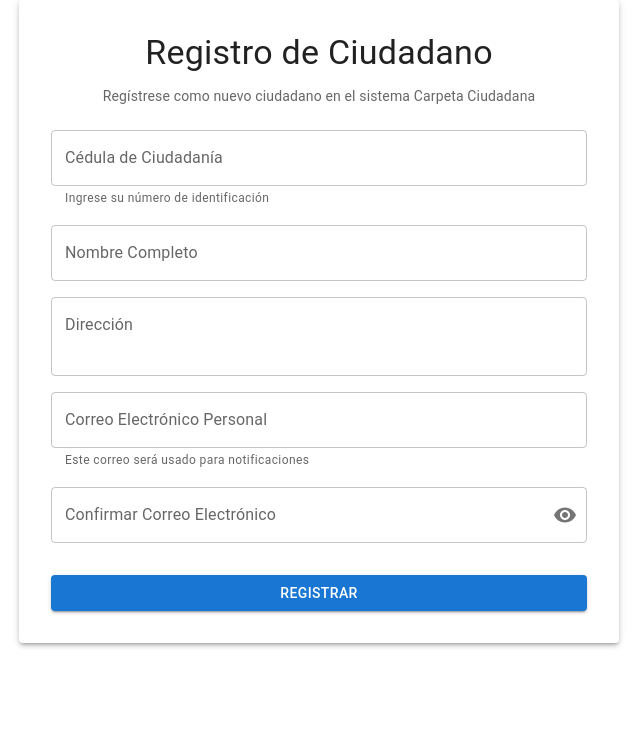
Test: RegisterCitizenForm › validates email confirmation and shows mismatch error in Spanish
Step 1. Type "test@ejemplo.com" into the field labelled "Correo Electrónico Personal" → (319, 420), box [51,392,587,448]
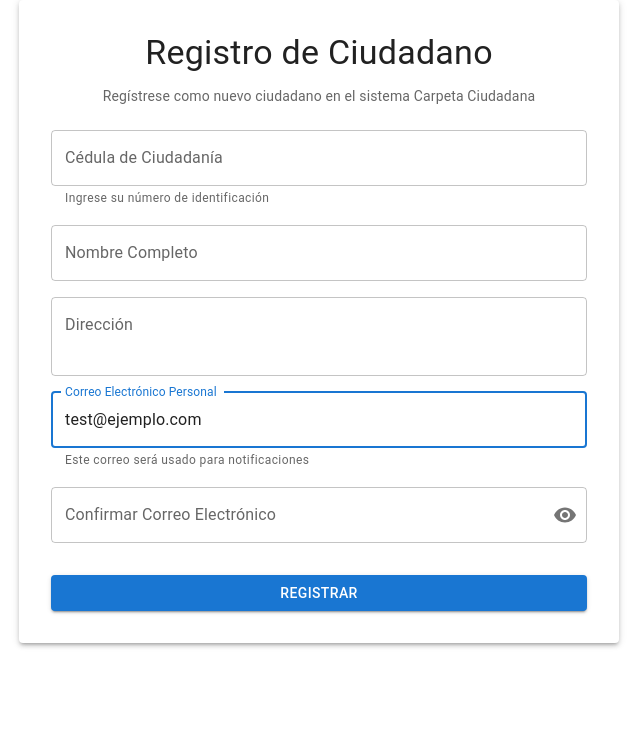
Step 2. Type "diferente@ejemplo.com" into the field labelled "Confirmar Correo Electrónico" → (294, 515), box [51,487,537,543]
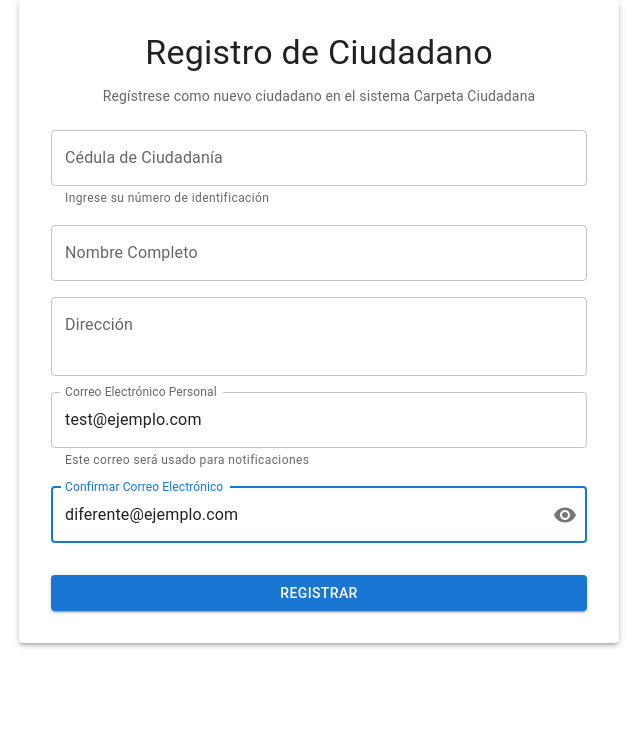
Submit to trigger validation
Step 3. Click the button "Registrar" → (319, 593), box [51,575,587,611]
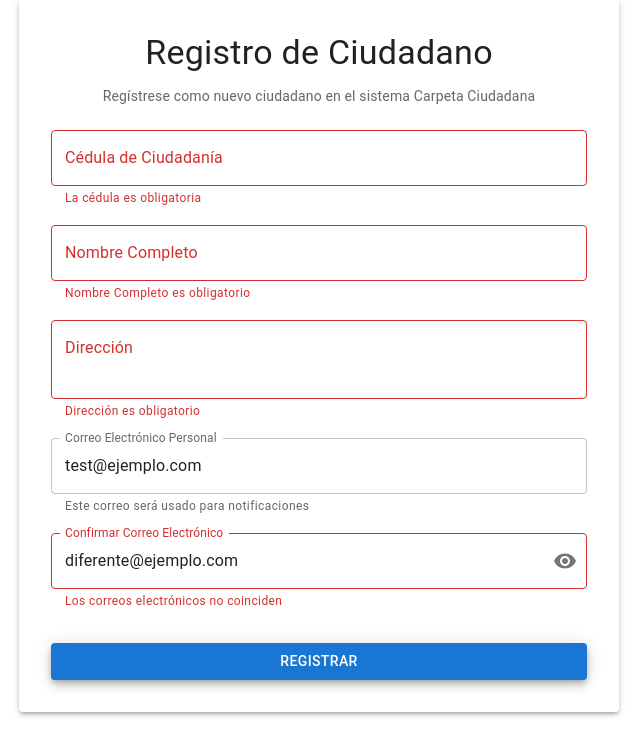
Now the text "Los correos electrónicos no coinciden" is shown, box [65,594,282,608]
